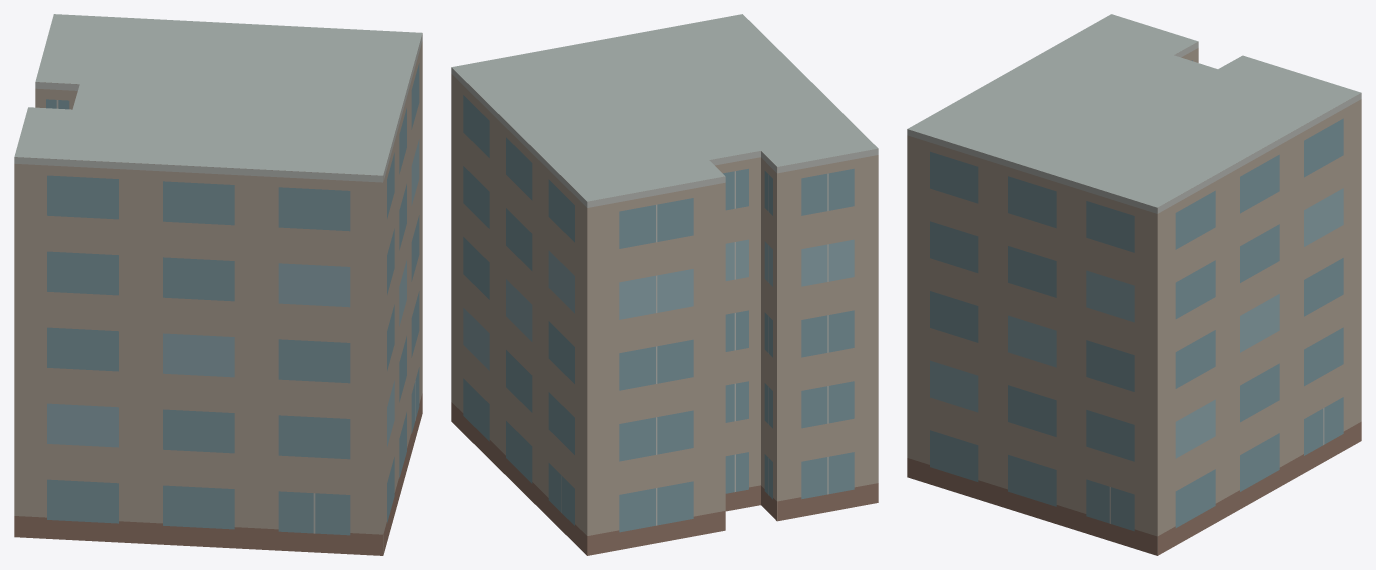
Rendered from survey-upis-32641685.glb.
3 renders of one model, left to right at view 1: azimuth 30°, elevation 25°; view 2: azimuth 150°, elevation 25°; view 3: azimuth 270°, elevation 25°, orthographic. The views are drawn at different scales.
Visible parts, largest first — view 1: survey-upis-32641685.tmp; view 2: survey-upis-32641685.tmp; view 3: survey-upis-32641685.tmp.
Boxes of the visible parts, left/top/right/bottom form: survey-upis-32641685.tmp: left=14, top=14, right=422, bottom=555; survey-upis-32641685.tmp: left=451, top=14, right=878, bottom=555; survey-upis-32641685.tmp: left=907, top=14, right=1361, bottom=555.
Bounding box in the file's own units: 16.24 × 13.6 × 16.09.
